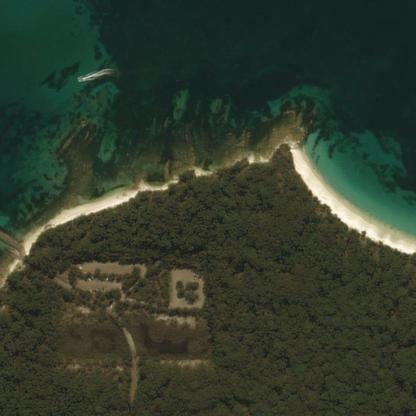ship: (72, 67, 93, 87)
